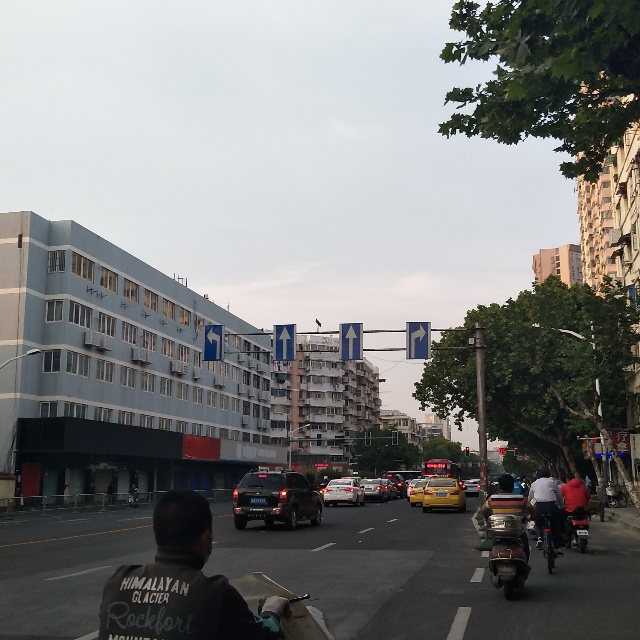left: (202, 324, 222, 361)
right: (408, 322, 429, 361)
straight: (340, 323, 362, 361), (275, 324, 294, 361)
